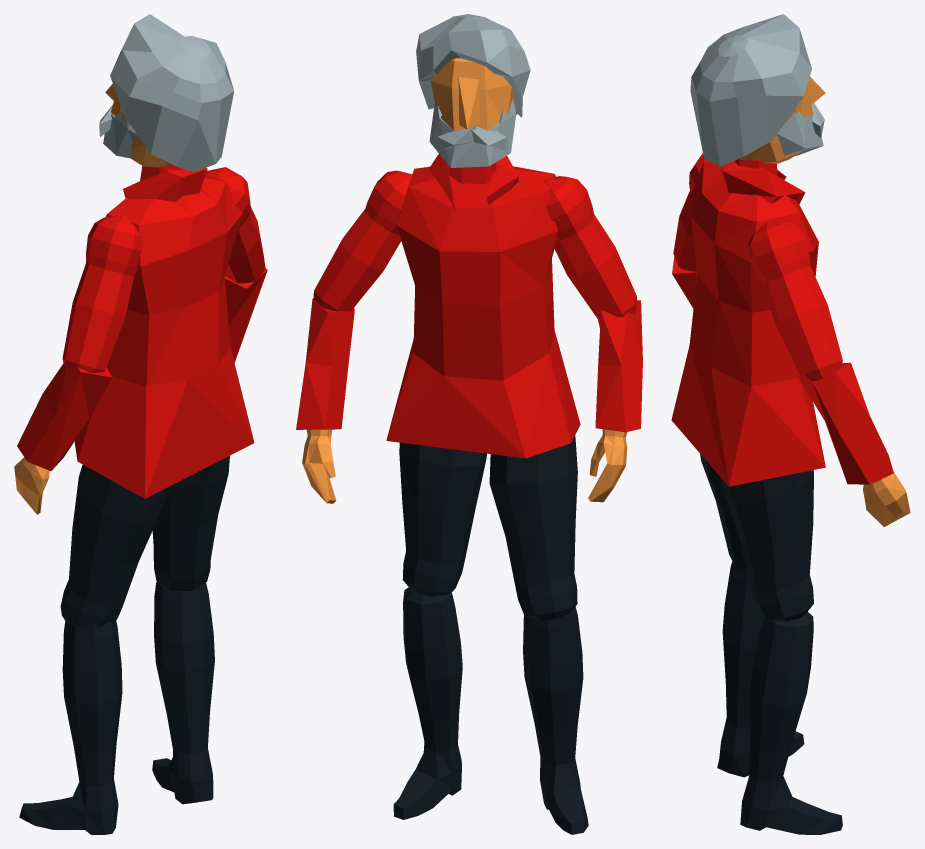
Rendered from торговец.obj.
The picture shows the model from 3 angles, left to right: view 1: azimuth 30°, elevation 25°; view 2: azimuth 150°, elevation 25°; view 3: azimuth 270°, elevation 25°; orthographic projection.
Parts seen in each view (by area): view 1: group1794093376, group1466040742, group1131172432, group938122174, group1874662402, group368397114, group719248615, group502874426, group106158125, group1037886679; view 2: group1794093376, group1466040742, group1874662402, group938122174, group719248615, group1131172432, group1037886679, group502874426, group368397114, group106158125; view 3: group1794093376, group1466040742, group938122174, group719248615, group106158125, group1037886679, group1131172432, group1874662402, group368397114, group502874426.
Boxes of the visible parts, x1,y1,x2,y2 form: group1794093376: [74, 165, 254, 498]; group1466040742: [99, 14, 233, 171]; group1131172432: [19, 620, 122, 834]; group938122174: [152, 582, 214, 804]; group1874662402: [60, 464, 169, 628]; group368397114: [62, 214, 142, 380]; group719248615: [152, 456, 229, 591]; group502874426: [14, 363, 112, 514]; group106158125: [206, 167, 265, 283]; group1037886679: [224, 268, 267, 362]; group1794093376: [386, 154, 580, 458]; group1466040742: [416, 14, 530, 167]; group1874662402: [489, 435, 577, 621]; group938122174: [393, 587, 462, 819]; group719248615: [399, 442, 486, 596]; group1131172432: [523, 606, 588, 834]; group1037886679: [296, 299, 354, 503]; group502874426: [588, 300, 642, 502]; group368397114: [544, 176, 636, 320]; group106158125: [313, 170, 412, 311]; group1794093376: [671, 158, 825, 486]; group1466040742: [690, 14, 825, 166]; group938122174: [740, 612, 842, 834]; group719248615: [721, 470, 813, 621]; group106158125: [747, 221, 842, 381]; group1037886679: [797, 362, 910, 526]; group1131172432: [717, 561, 804, 777]; group1874662402: [700, 454, 747, 573]; group368397114: [673, 153, 708, 271]; group502874426: [672, 256, 695, 308].
Size of the model in its own units: 1.17 by 3.09 by 0.8477.
